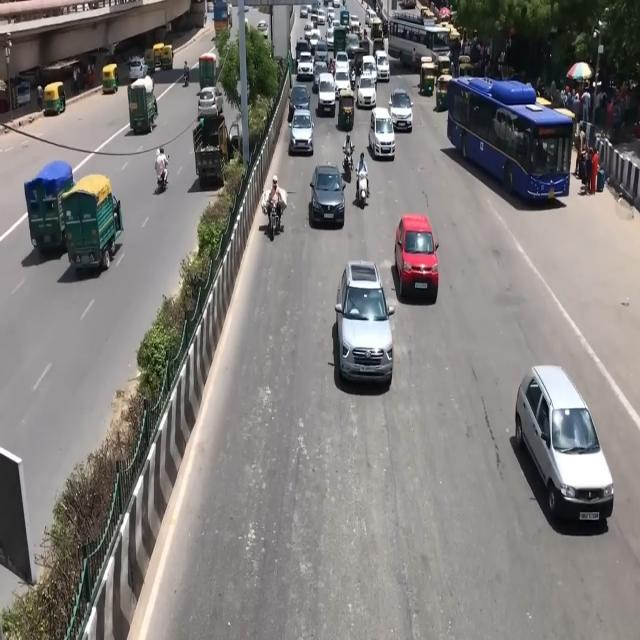auto: (128, 75, 158, 135), (336, 91, 356, 132), (198, 53, 218, 90), (44, 82, 66, 115), (420, 57, 437, 96), (436, 72, 452, 111), (102, 63, 119, 94), (152, 43, 165, 71), (437, 53, 452, 77), (143, 48, 157, 73), (161, 44, 173, 70)
bike-auto: (266, 173, 285, 224), (355, 164, 369, 208), (156, 156, 169, 192), (343, 133, 353, 163), (183, 61, 189, 86)
